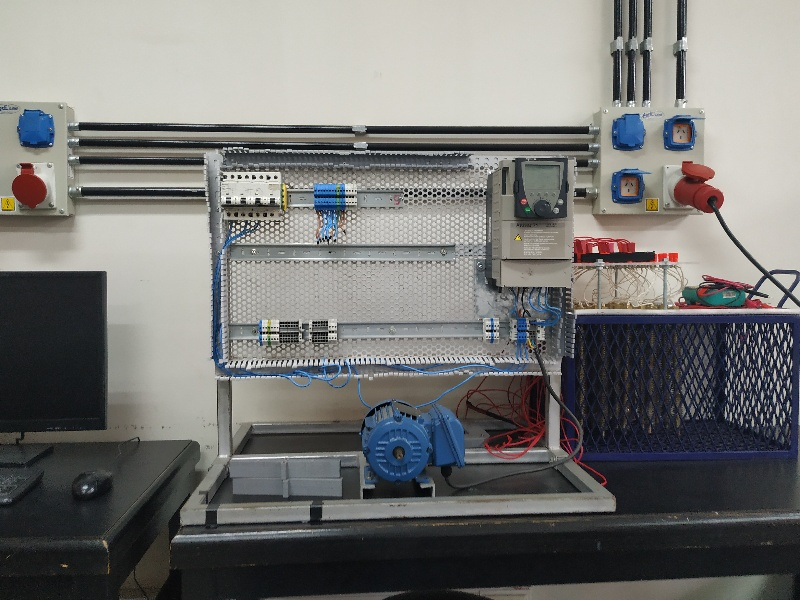Tablero 0: (209, 148, 581, 378)
